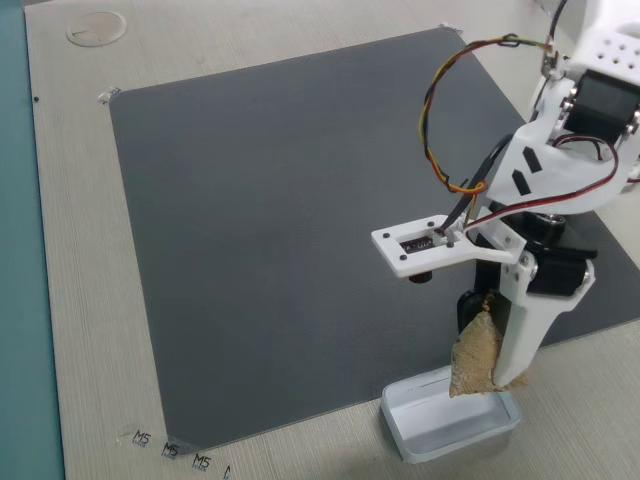objects: (456, 240, 584, 374)
